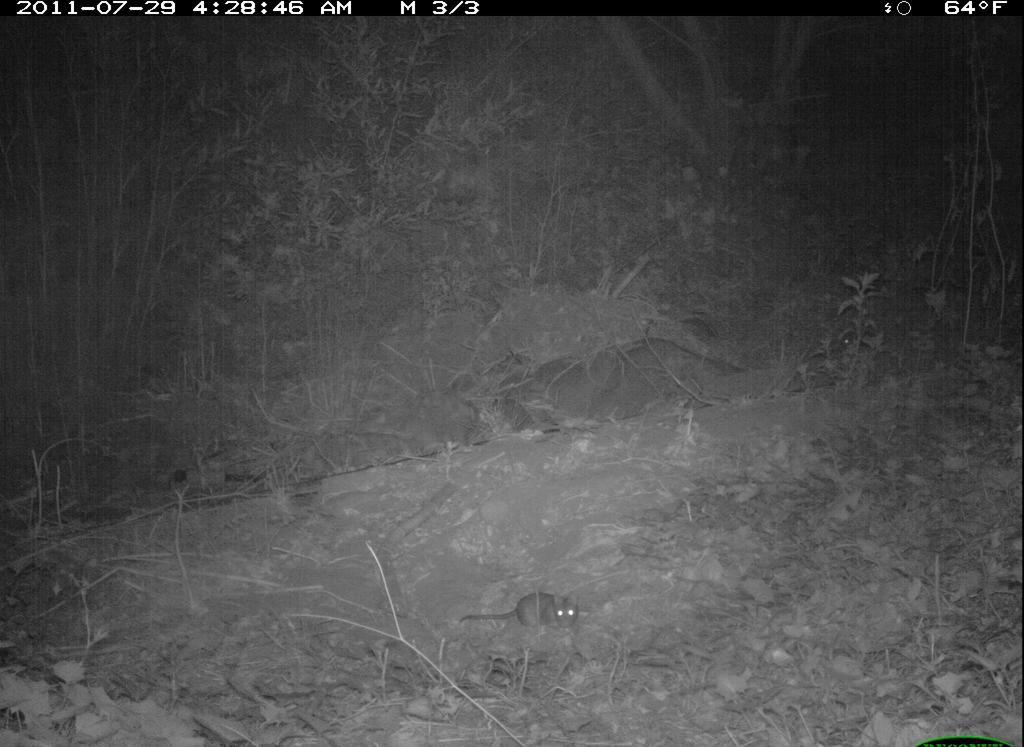rodent: (456, 587, 588, 646)
